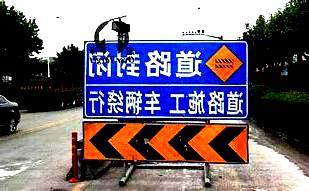sign: (85, 41, 248, 163)
